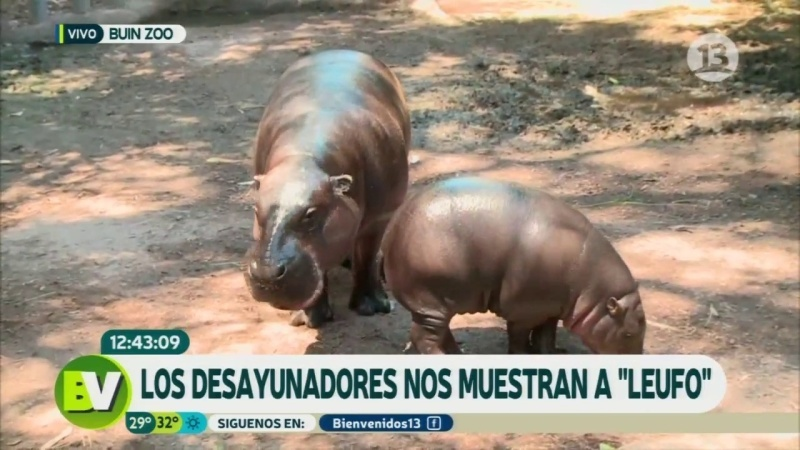hipopotamo: (374, 168, 666, 353), (225, 39, 401, 330)
